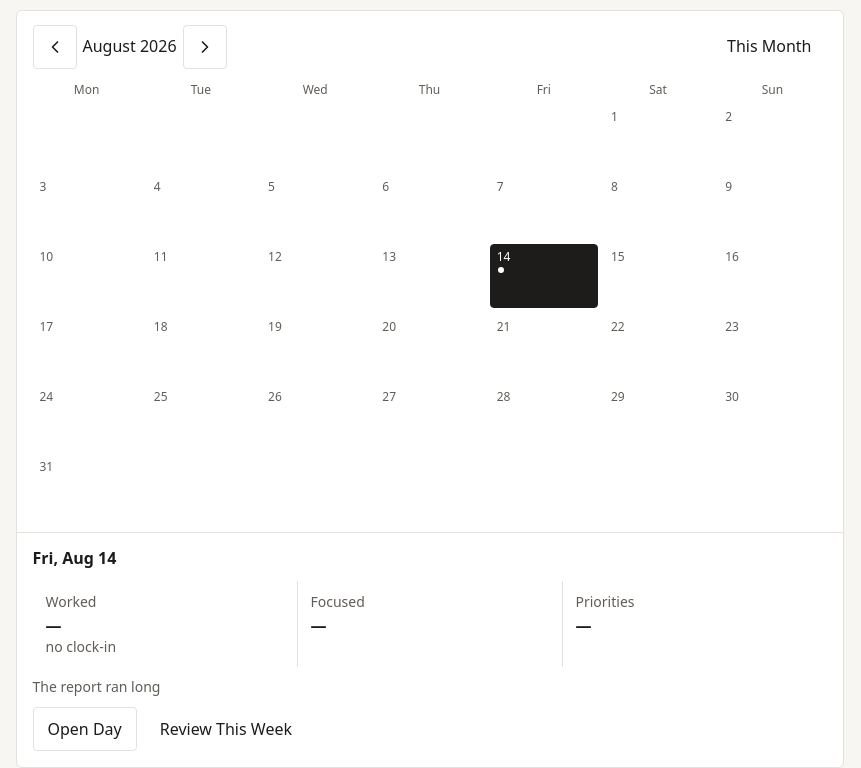
Test: History › hands the focus to the Review switch from the calendar's Review This Week, which Review hides
The width and height of the screenshot is (861, 768).
(page scrolled)
Click the button "Review This Week".
click(226, 729)  # box x1=145 y1=707 x2=307 y2=751
(page scrolled)
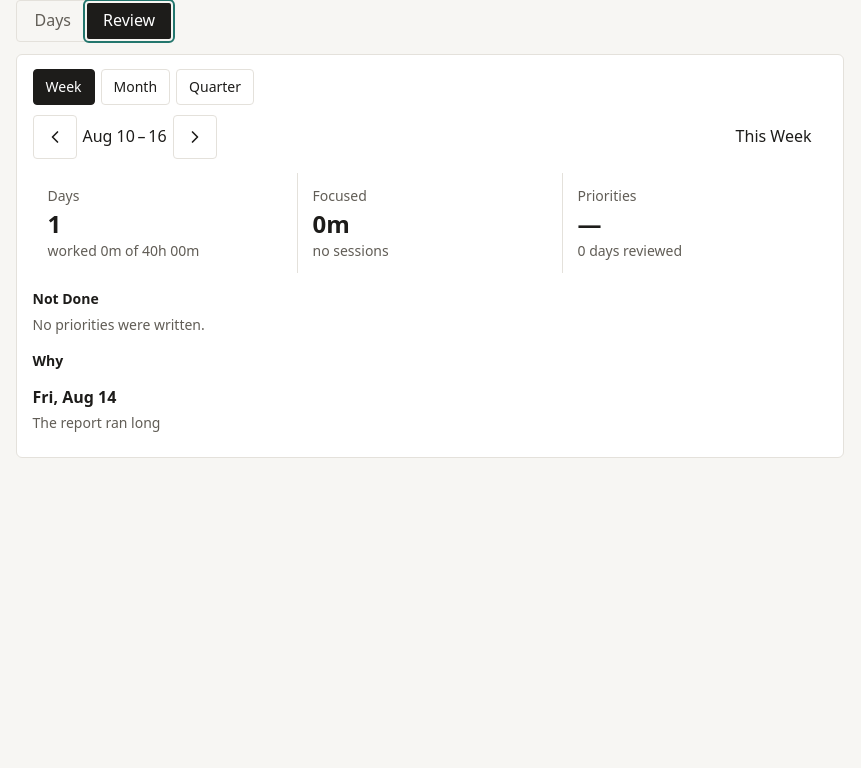
Now the button "Week" is shown, box x1=32 y1=69 x2=94 y2=105
